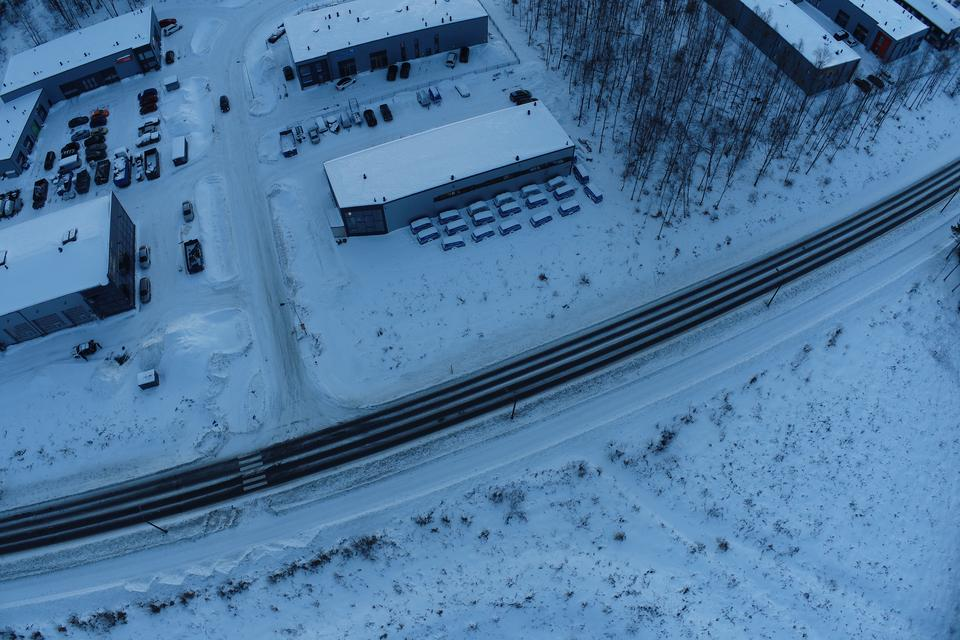intersection: (206, 376, 397, 542)
